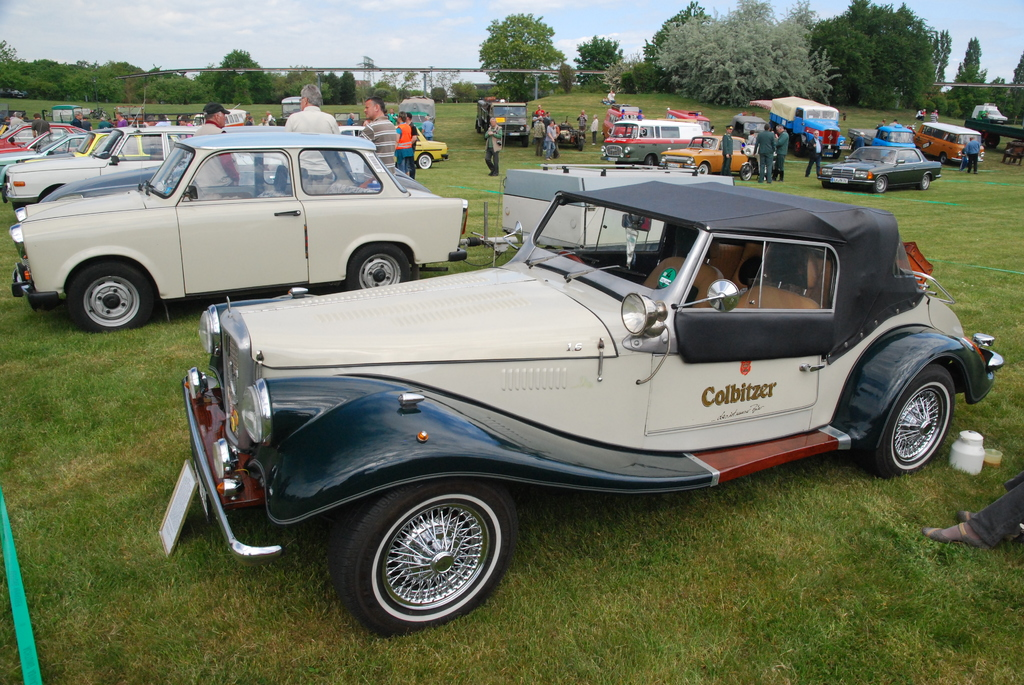Car: (179, 183, 969, 614), (0, 98, 468, 329), (817, 145, 942, 195), (658, 134, 748, 182)
